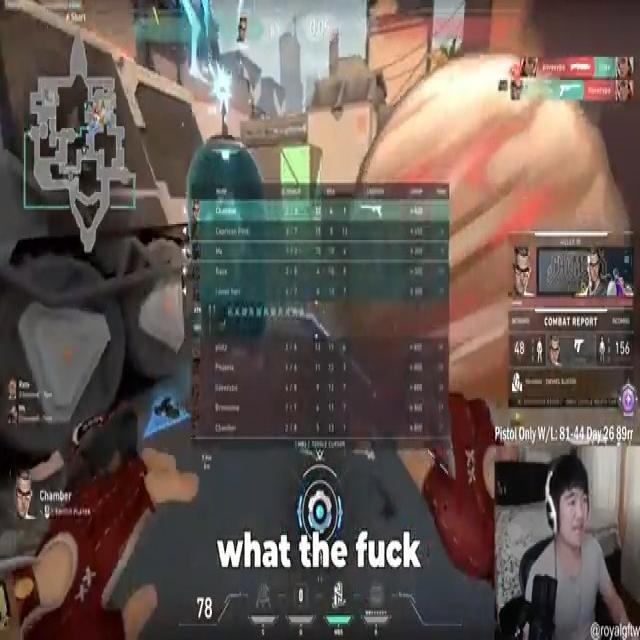smoke: (366, 50, 632, 397)
